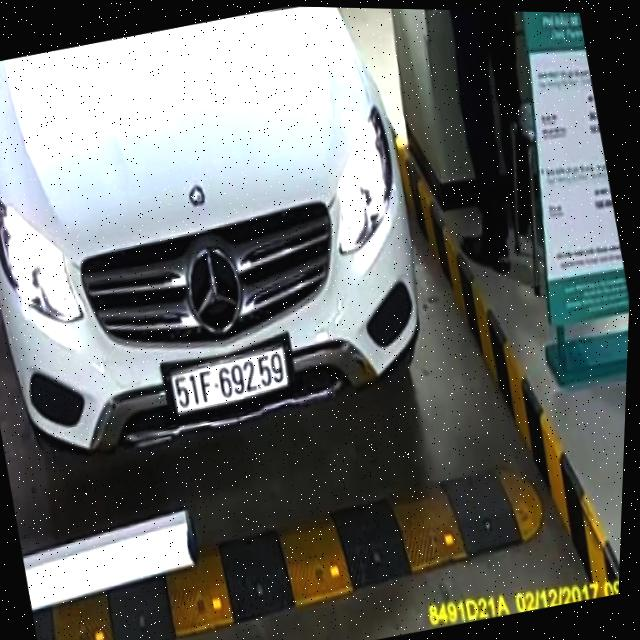car: (0, 0, 475, 500)
plate: (159, 335, 297, 421)
